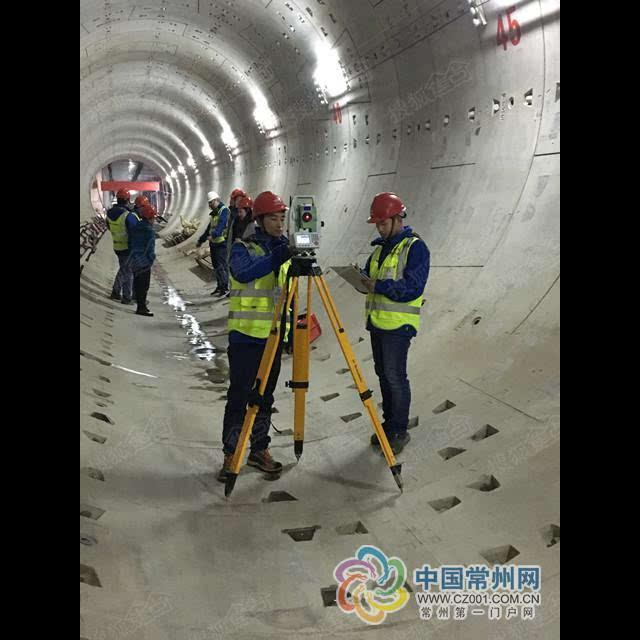Hardhat: (366, 192, 407, 223), (250, 190, 286, 218), (234, 197, 254, 209), (206, 190, 222, 202), (140, 205, 156, 217), (116, 187, 131, 199), (134, 195, 149, 205), (230, 188, 242, 197)
Mask: (209, 203, 216, 210)
NO-Mask: (267, 224, 284, 237), (378, 227, 396, 239), (240, 212, 246, 220), (150, 218, 154, 223)
NO-Safety Vest: (128, 222, 153, 269), (227, 218, 255, 259), (228, 209, 237, 230)
Person: (216, 189, 298, 483), (362, 193, 436, 451), (196, 188, 230, 297), (106, 187, 133, 304), (129, 203, 156, 316), (126, 195, 151, 305), (224, 188, 247, 299), (231, 197, 253, 243)
Safety Vest: (226, 235, 295, 344), (364, 235, 421, 336), (106, 208, 128, 251), (208, 205, 227, 241), (127, 211, 140, 224)
